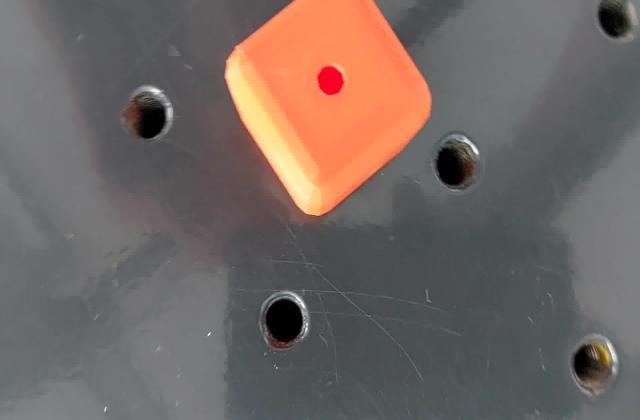cube: (216, 1, 437, 220)
